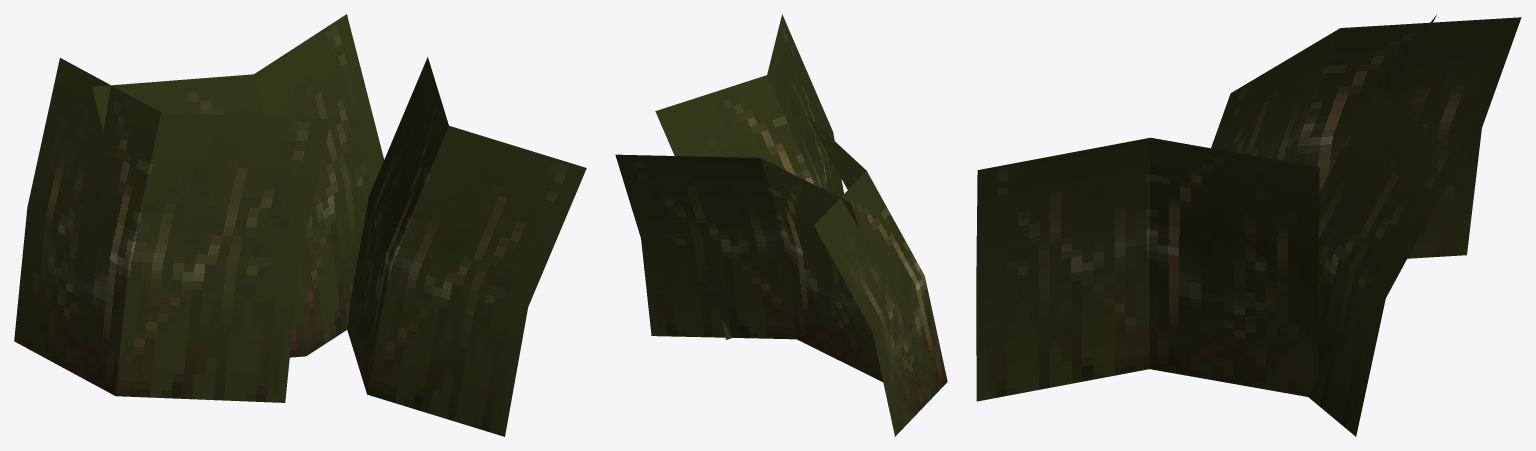
Rendered from cao3_md.fbx.
3 views of the same model, side by side, from view 1: azimuth 30°, elevation 25°; view 2: azimuth 150°, elevation 25°; view 3: azimuth 270°, elevation 25° (orthographic). The views are drawn at different scales.
Parts seen in each view (by area): view 1: cao3_md; view 2: cao3_md; view 3: cao3_md.
Boxes of the visible parts, box(x1,y1,x2,y2) form: cao3_md: box(14, 14, 586, 436); cao3_md: box(615, 14, 947, 436); cao3_md: box(976, 15, 1521, 436).
Bounding box in the file's own units: 217 × 146 × 262.
